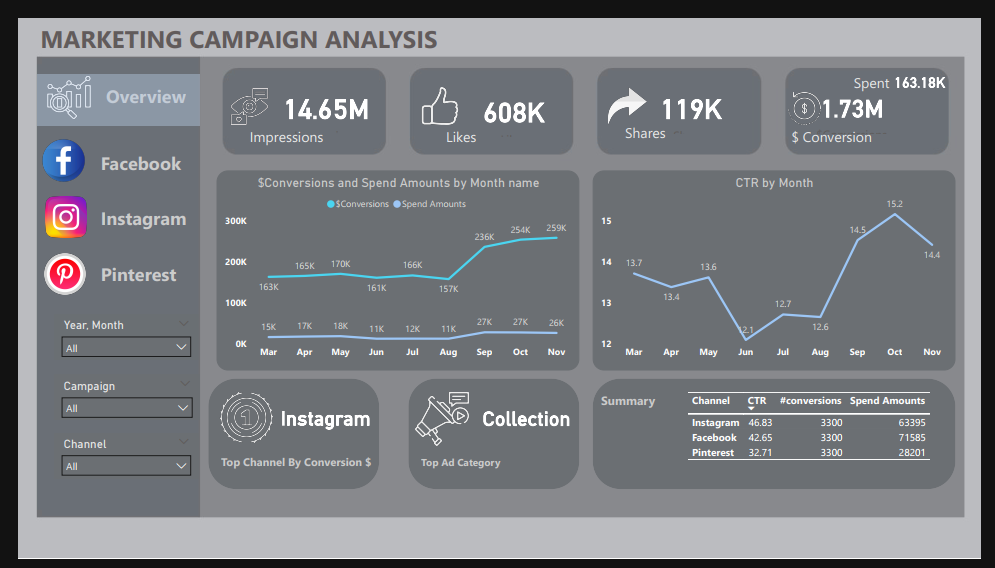

The page's visual inventory and layout, read from the dashboard file:
{"tool":"powerbi","page":{"name":"Overveiw","canvas":[1280,720],"ordinal":0},"visuals":[{"type":"card","fields":{"Values":["Calculations.Impressions"]},"box":[327.7,98.4,163.1,60.2],"z":0},{"type":"card","fields":{"Values":["Calculations.Likes"]},"box":[577.5,102.9,163.1,60.2],"z":1000},{"type":"card","fields":{"Values":["Calculations.Shares"]},"box":[812.6,98.4,163.1,60.2],"z":2000},{"type":"card","fields":{"Values":["Calculations.$Conversions"]},"box":[1027.1,98.4,163.1,60.2],"z":3000},{"type":"image","box":[277.5,87.8,60,60],"z":4000},{"type":"image","box":[531.4,87.4,60,60],"z":5000},{"type":"image","box":[780,87.4,60,60],"z":6000},{"type":"image","box":[1018.3,94,54.4,52.9],"z":7000},{"type":"lineChart","fields":{"Category":["Calender.Month name"],"Y":["Calculations.$Conversions","Calculations.Spent Amounts"]},"box":[264.3,202.9,481.4,265.7],"z":8000},{"type":"lineChart","title":"CTR by Month","fields":{"Category":["Calender.Month name"],"Y":["Calculations.CTR"]},"box":[764.3,202.9,481.4,265.7],"z":9000},{"type":"shape","box":[764.3,480,481.4,147.1],"z":10000},{"type":"pivotTable","fields":{"Rows":["data.Channel"],"Values":["Calculations.CTR","Calculations.#conversions","Calculations.Spent Amounts"]},"box":[885.7,492.9,350,122.9],"z":11000},{"type":"textbox","box":[770,492.9,150,38.6],"z":12000},{"type":"shape","box":[252.9,480,227.1,147.1],"z":13000},{"type":"shape","box":[518.6,480,227.1,147.1],"z":14000},{"type":"textbox","box":[265,575,241.7,38.3],"z":15000},{"type":"image","box":[260,488.6,85.7,85.7],"z":16000},{"type":"card","fields":{"Values":["Min(data.Ad)"]},"box":[587.8,493.7,176.3,76.4],"z":17000},{"type":"textbox","box":[531.4,577.1,255.7,38.6],"z":18000},{"type":"image","box":[524.3,494.3,80,80],"z":19000},{"type":"image","box":[27.9,70.5,77.9,69.1],"z":20000},{"type":"textbox","box":[111.7,82.3,148.4,57.3],"z":21000},{"type":"image","box":[25,154.3,70.5,70.5],"z":22000},{"type":"image","box":[30.9,232.2,64.7,64.7],"z":23000},{"type":"image","box":[29.4,308.6,64.7,64.7],"z":24000},{"type":"shape","box":[26.4,74.9,216,69.1],"z":25000},{"type":"card","fields":{"Values":["Min(data.Channel)"]},"box":[320.3,486.4,177.8,91.1],"z":26000},{"type":"textbox","box":[25,0,606.9,60.2],"z":27000},{"type":"slicer","fields":{"Values":["data.Campaign"]},"box":[48.5,474.6,194,60.2],"z":28000},{"type":"slicer","fields":{"Values":["Calender.Date.Variation.Date Hierarchy.Year","Calender.Month name"]},"box":[48.5,393.8,191,60.2],"z":29000},{"type":"slicer","fields":{"Values":["data.Channel"]},"box":[48.5,552.5,191,60.2],"z":30000},{"type":"textbox","box":[302.7,139.6,167.5,36.7],"z":31000},{"type":"textbox","box":[564.2,139.6,167.5,36.7],"z":32000},{"type":"textbox","box":[802.3,135.2,167.5,36.7],"z":33000},{"type":"textbox","box":[1022.7,139.6,167.5,36.7],"z":34000},{"type":"card","fields":{"Values":["Calculations.Spent Amounts"]},"box":[1116.7,55.8,163.1,60.2],"z":35000},{"type":"textbox","box":[1106.4,67.6,98.4,38.2],"z":36000},{"type":"actionButton","box":[105.8,158.7,146.9,66.1],"z":37000},{"type":"actionButton","box":[105.8,232.2,146.9,66.1],"z":38000},{"type":"actionButton","box":[105.8,307.1,146.9,66.1],"z":39000}]}

Visuals, with their boxes in screenshot pixels (x1, y1, x2, y2), scaled from the page's 1280x720 canvas onto the 995x568 screenshot:
card - Calculations.Impressions: x1=255, y1=78, x2=382, y2=125
card - Calculations.Likes: x1=449, y1=81, x2=576, y2=129
card - Calculations.Shares: x1=632, y1=78, x2=758, y2=125
card - Calculations.$Conversions: x1=798, y1=78, x2=925, y2=125
image: x1=216, y1=69, x2=262, y2=117
image: x1=413, y1=69, x2=460, y2=116
image: x1=606, y1=69, x2=653, y2=116
image: x1=792, y1=74, x2=834, y2=116
lineChart - Calender.Month name x Calculations.$Conversions: x1=205, y1=160, x2=580, y2=370
"CTR by Month" lineChart: x1=594, y1=160, x2=968, y2=370
shape: x1=594, y1=379, x2=968, y2=495
pivotTable - data.Channel x Calculations.CTR: x1=688, y1=389, x2=961, y2=486
textbox: x1=599, y1=389, x2=715, y2=419
shape: x1=197, y1=379, x2=373, y2=495
shape: x1=403, y1=379, x2=580, y2=495
textbox: x1=206, y1=454, x2=394, y2=484
image: x1=202, y1=385, x2=269, y2=453
card - Min(data.Ad): x1=457, y1=389, x2=594, y2=450
textbox: x1=413, y1=455, x2=612, y2=486
image: x1=408, y1=390, x2=470, y2=453
image: x1=22, y1=56, x2=82, y2=110
textbox: x1=87, y1=65, x2=202, y2=110
image: x1=19, y1=122, x2=74, y2=177
image: x1=24, y1=183, x2=74, y2=234
image: x1=23, y1=243, x2=73, y2=294
shape: x1=21, y1=59, x2=188, y2=114
card - Min(data.Channel): x1=249, y1=384, x2=387, y2=456
textbox: x1=19, y1=0, x2=491, y2=47
slicer - data.Campaign: x1=38, y1=374, x2=189, y2=422
slicer - Calender.Date.Variation.Date Hierarchy.Year x Calender.Month name: x1=38, y1=311, x2=186, y2=358
slicer - data.Channel: x1=38, y1=436, x2=186, y2=483
textbox: x1=235, y1=110, x2=366, y2=139
textbox: x1=439, y1=110, x2=569, y2=139
textbox: x1=624, y1=107, x2=754, y2=136
textbox: x1=795, y1=110, x2=925, y2=139
card - Calculations.Spent Amounts: x1=868, y1=44, x2=994, y2=92
textbox: x1=860, y1=53, x2=937, y2=83
actionButton: x1=82, y1=125, x2=196, y2=177
actionButton: x1=82, y1=183, x2=196, y2=235
actionButton: x1=82, y1=242, x2=196, y2=294
